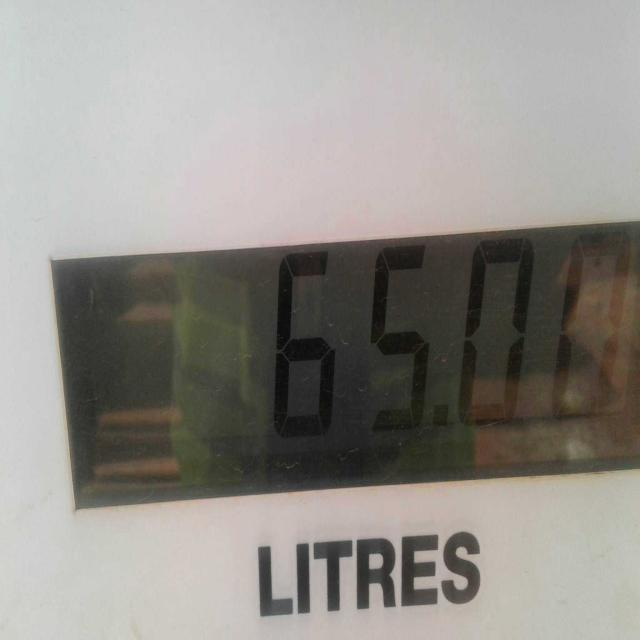.: (431, 392, 457, 442)
0: (550, 231, 633, 454), (454, 231, 534, 445)
5: (369, 235, 434, 443)
6: (261, 239, 338, 457)
